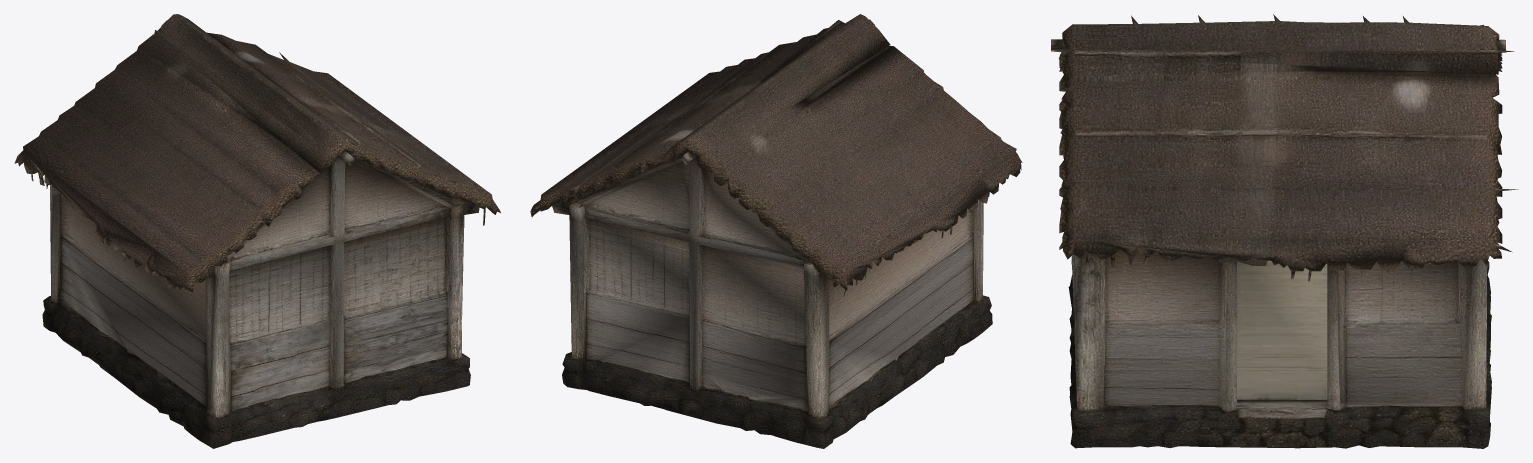
File: thatched-hut-b.glb
The picture shows the model from 3 angles, left to right: view 1: azimuth 30°, elevation 25°; view 2: azimuth 150°, elevation 25°; view 3: azimuth 270°, elevation 25°; orthographic projection. The views are drawn at different scales.
Parts seen in each view (by area): view 1: tripo_node_5f4ad0a8-8fd4-430f-b2cf-e0ff862f74f0; view 2: tripo_node_5f4ad0a8-8fd4-430f-b2cf-e0ff862f74f0; view 3: tripo_node_5f4ad0a8-8fd4-430f-b2cf-e0ff862f74f0.
Part boxes in pixels (x1,y1,x2,y2): tripo_node_5f4ad0a8-8fd4-430f-b2cf-e0ff862f74f0: (14, 14, 500, 448); tripo_node_5f4ad0a8-8fd4-430f-b2cf-e0ff862f74f0: (530, 14, 1022, 448); tripo_node_5f4ad0a8-8fd4-430f-b2cf-e0ff862f74f0: (1051, 14, 1518, 448).
Bounding box in the file's own units: 0.998 × 0.8184 × 0.9824.
Materials: 1 (1 with a texture image).
